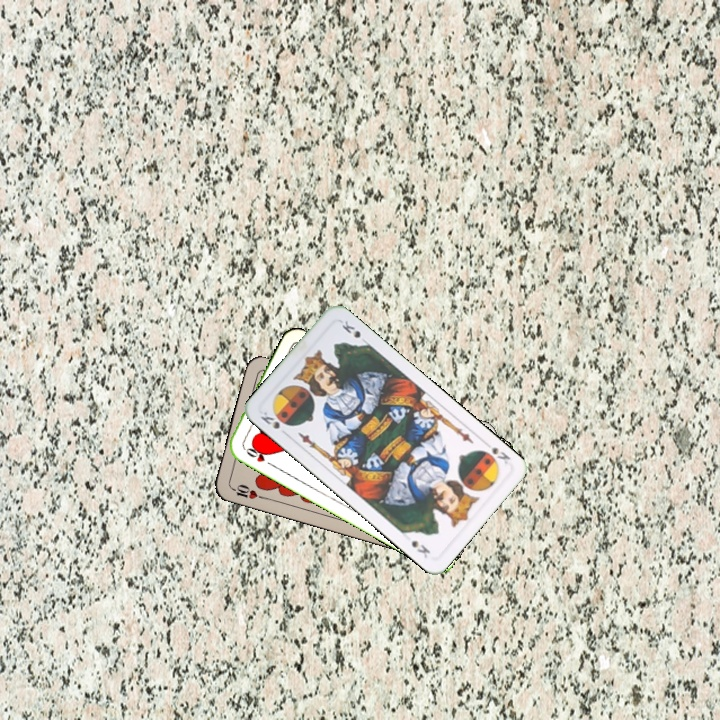H10: (227, 480, 266, 502)
HO: (238, 441, 275, 468)
SK: (476, 443, 513, 467), (256, 407, 283, 432)
